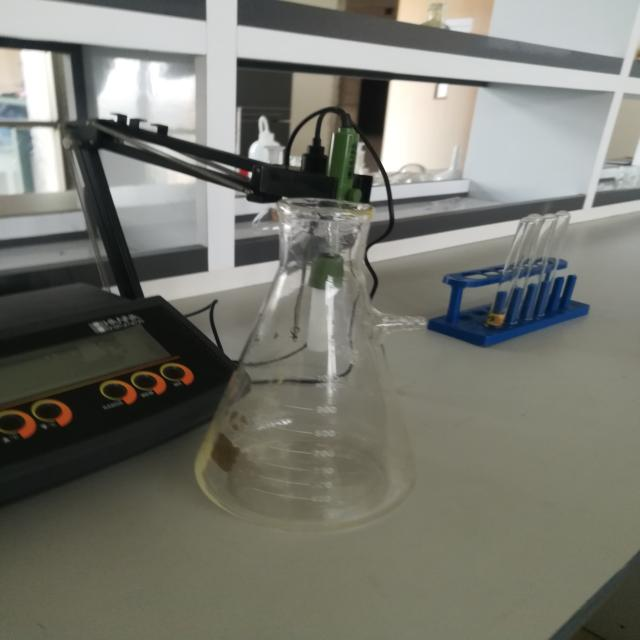Conical_Flask: (156, 155, 450, 563)
Test_Tube: (482, 140, 612, 354)
